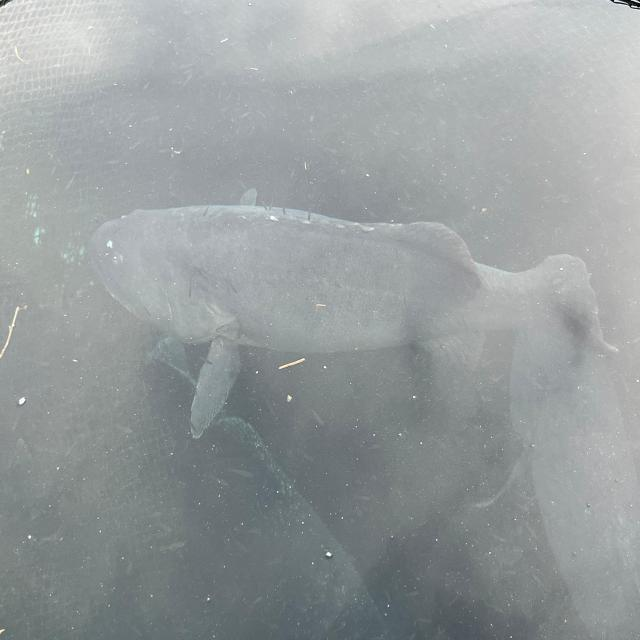ikan: (79, 174, 604, 423)
